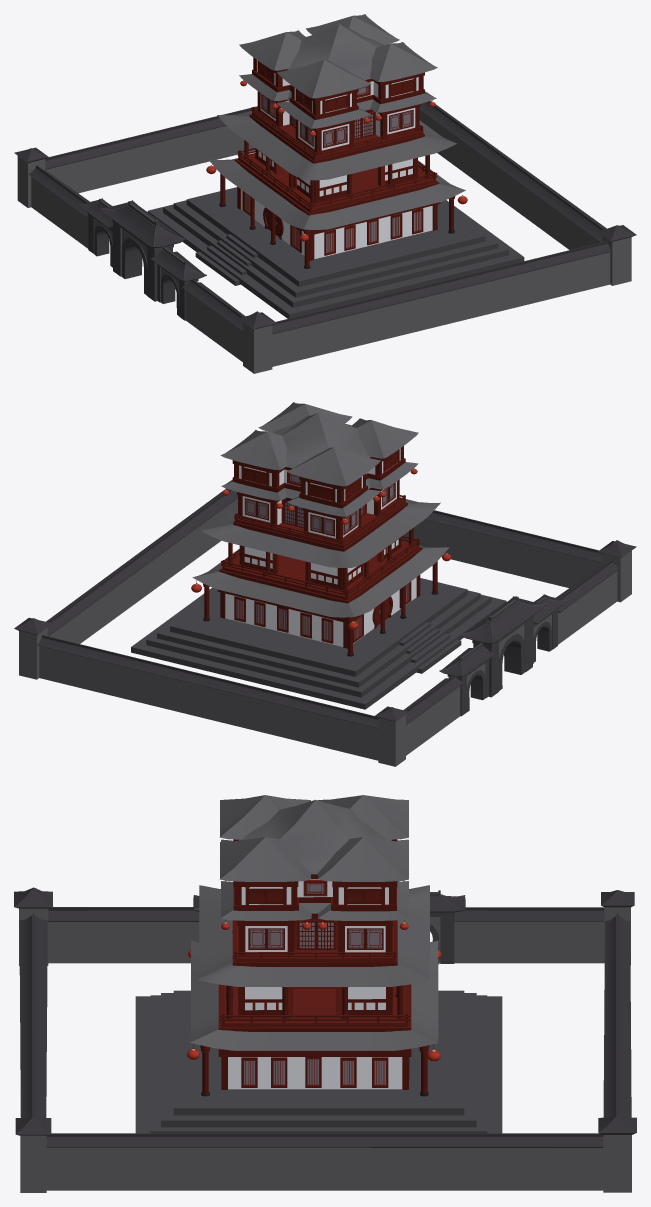
The model's file is castle021.fbx.
3 renders of one model, top to bottom at view 1: azimuth 30°, elevation 25°; view 2: azimuth 150°, elevation 25°; view 3: azimuth 270°, elevation 25°, orthographic. The views are drawn at different scales.
Visible parts, largest first — view 1: castle_fence_1, castle_21, foundation_castle_1; view 2: castle_fence_1, castle_21, foundation_castle_1; view 3: castle_fence_1, castle_21, foundation_castle_1.
Boxes of the visible parts, left/top/right/bottom form: castle_fence_1: left=14, top=101, right=636, bottom=373; castle_21: left=206, top=14, right=467, bottom=268; foundation_castle_1: left=147, top=187, right=524, bottom=318; castle_fence_1: left=14, top=488, right=636, bottom=766; castle_21: left=191, top=402, right=451, bottom=656; foundation_castle_1: left=131, top=578, right=506, bottom=709; castle_fence_1: left=14, top=881, right=636, bottom=1192; castle_21: left=187, top=795, right=441, bottom=1096; foundation_castle_1: left=135, top=990, right=502, bottom=1133.
Bounding box in the file's own units: 8426 × 4502 × 9031.
